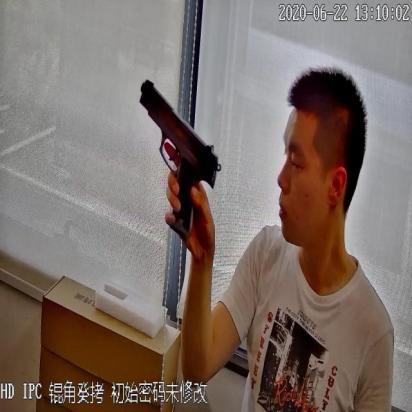Gun: (137, 66, 220, 245)
